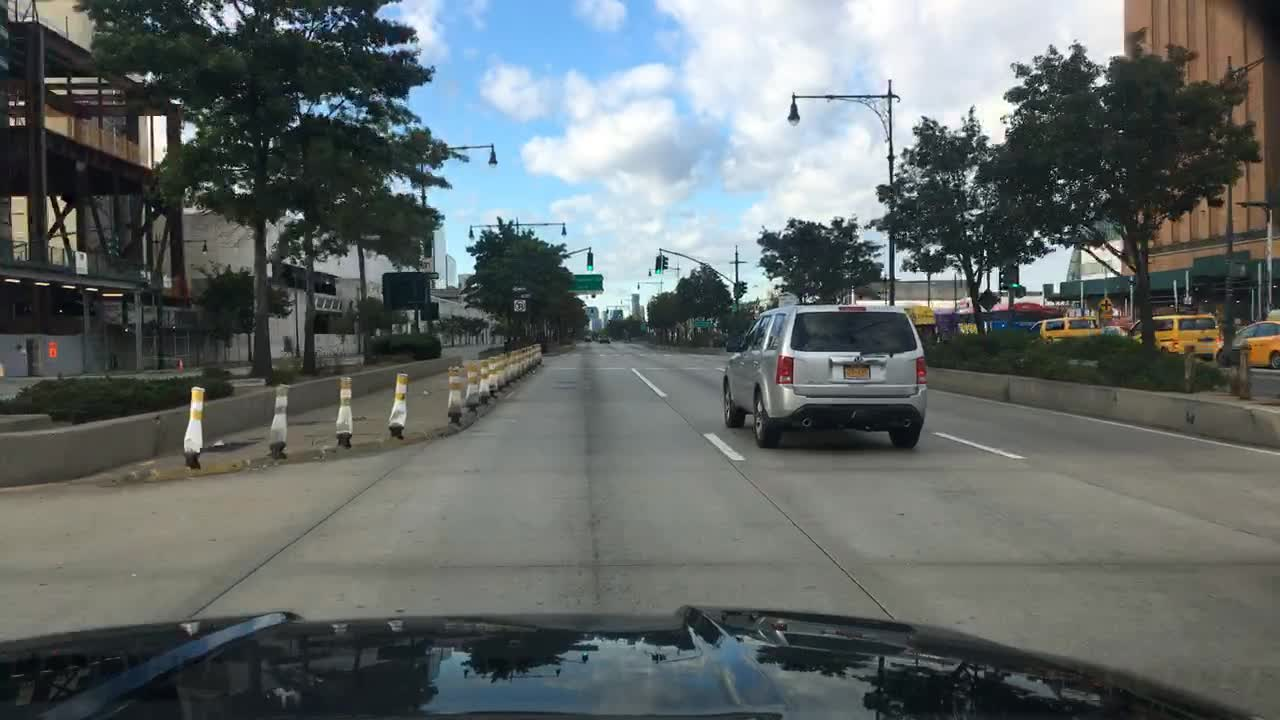car: (719, 301, 928, 450), (1117, 311, 1226, 361), (1211, 319, 1279, 366), (1032, 314, 1104, 342), (594, 334, 612, 345), (581, 334, 594, 342)
traffic light: (1006, 263, 1019, 290), (997, 264, 1007, 290), (585, 250, 596, 269), (652, 255, 664, 272), (663, 255, 669, 271), (741, 281, 747, 291)
traffic sign: (560, 276, 604, 293), (976, 290, 998, 311), (1096, 295, 1116, 314), (691, 319, 712, 330), (512, 297, 528, 311), (512, 284, 531, 293)
